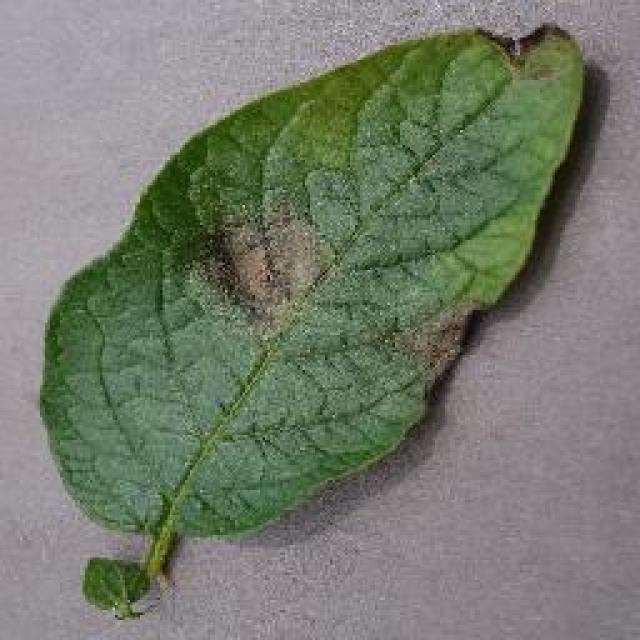Potato___Late_blight: (38, 22, 584, 620)
